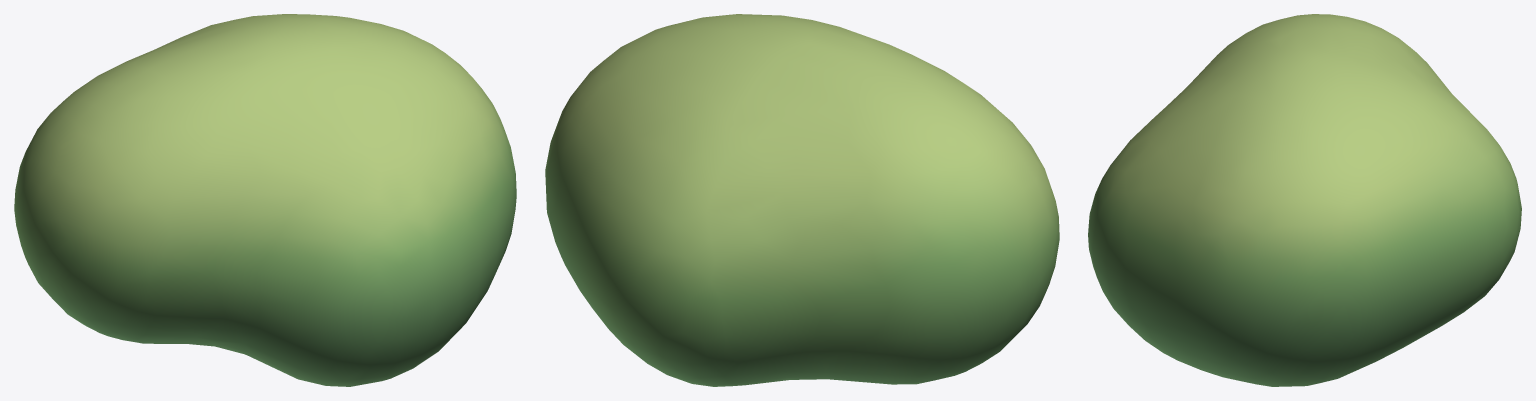
File: Bush_1.fbx
3 renders of one model, left to right at view 1: azimuth 30°, elevation 25°; view 2: azimuth 150°, elevation 25°; view 3: azimuth 270°, elevation 25°, orthographic. The views are drawn at different scales.
Parts seen in each view (by area): view 1: Bush_1; view 2: Bush_1; view 3: Bush_1.
Boxes of the visible parts, left/top/right/bottom form: Bush_1: left=14, top=14, right=516, bottom=386; Bush_1: left=545, top=14, right=1059, bottom=386; Bush_1: left=1088, top=14, right=1521, bottom=386.
Bounding box in the file's own units: 1.98 × 1.33 × 1.8.
